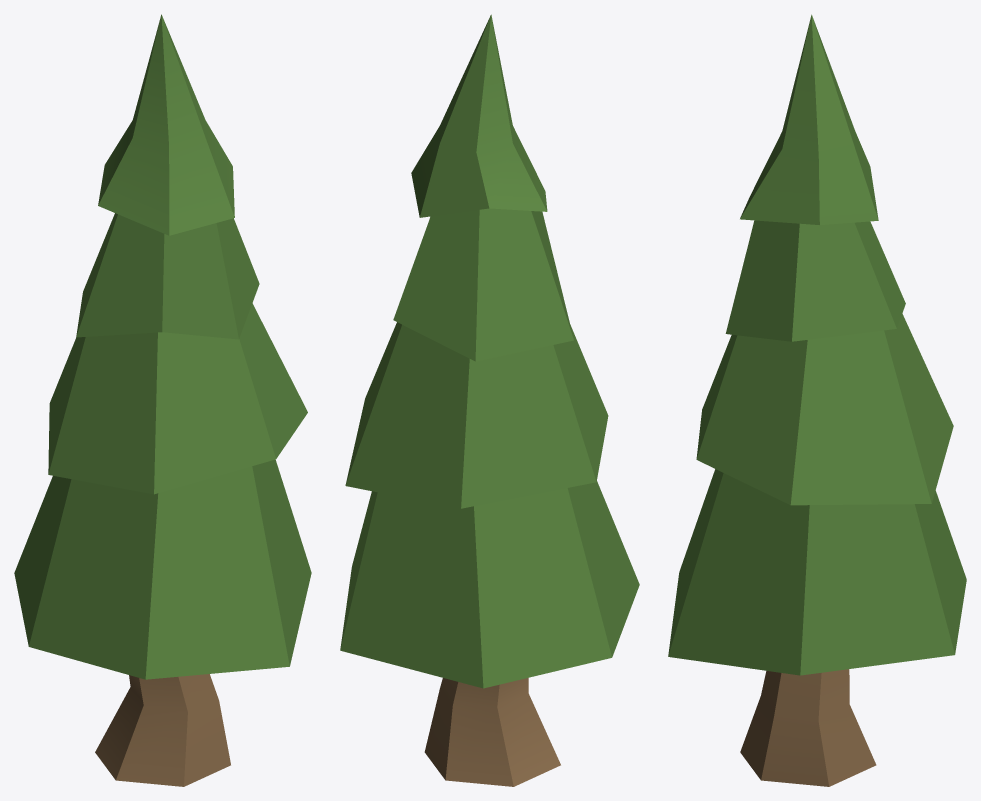
The model's file is pine_small_1.fbx.
The picture shows the model from 3 angles, left to right: view 1: azimuth 30°, elevation 25°; view 2: azimuth 150°, elevation 25°; view 3: azimuth 270°, elevation 25°; orthographic projection.
Parts seen in each view (by area): view 1: pine_small_1; view 2: pine_small_1; view 3: pine_small_1.
Part boxes in pixels (box(x1,y1,x2,y2)): pine_small_1: box(14, 14, 311, 786); pine_small_1: box(340, 14, 639, 786); pine_small_1: box(668, 14, 966, 786).
Bounding box in the file's own units: 91.17 × 239 × 86.85.
1 material, 1 textured.
